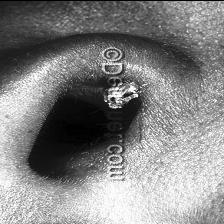Toxin: (104, 83, 144, 111)
